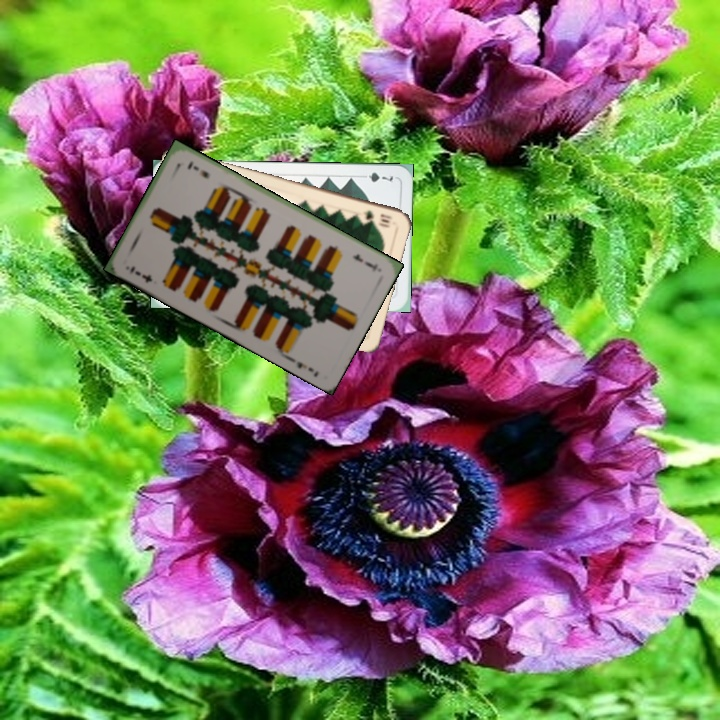E7: (348, 250, 381, 274), (126, 261, 155, 285)
G10: (359, 206, 395, 229)
G7: (356, 168, 395, 185)
